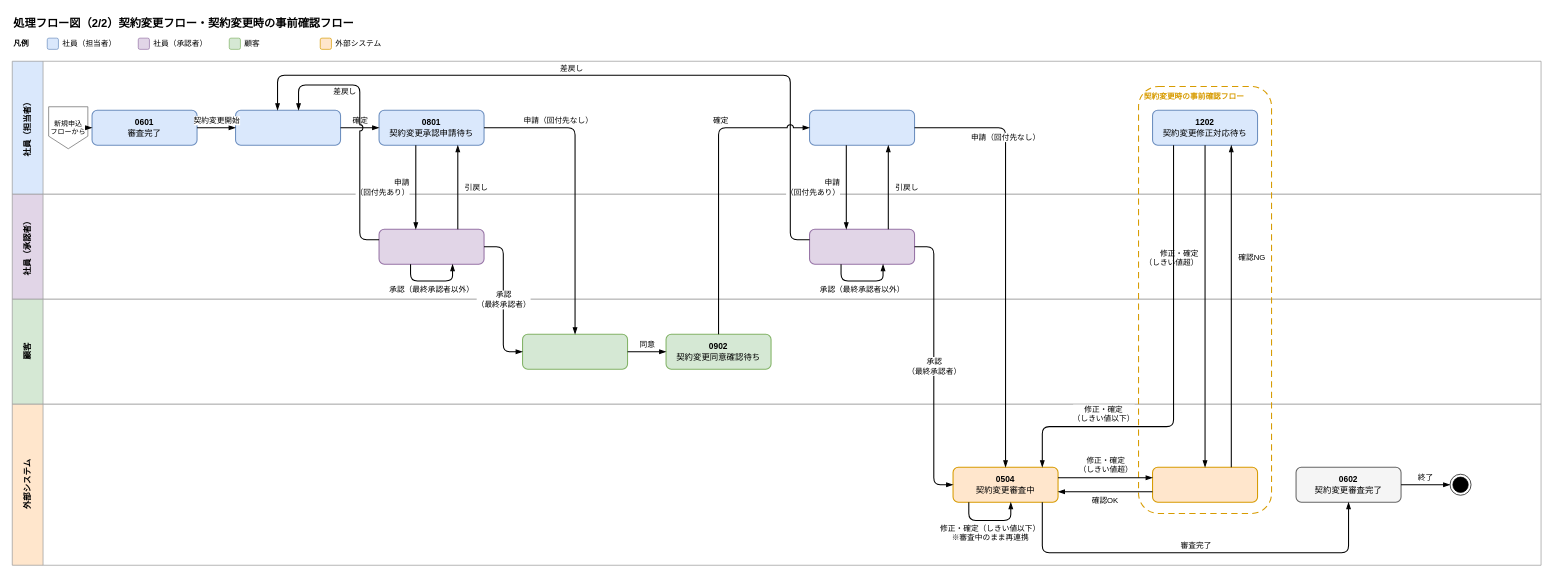
The diagram is 1553 pixels wide and 578 high, and some of its shapes have lost their labels. The centre of each missing label's shape, as x and y in pixels:
"0701 契約変更入力中" goes at (288,127).
"0802 契約変更承認申請中" goes at (431,246).
"0901 契約変更内容確認待ち" goes at (575,351).
"1001 契約変更審査依頼申請待ち" goes at (862,127).
"1002 契約変更審査依頼申請中" goes at (862,246).
"1201 契約変更事前確認待ち" goes at (1205,484).
